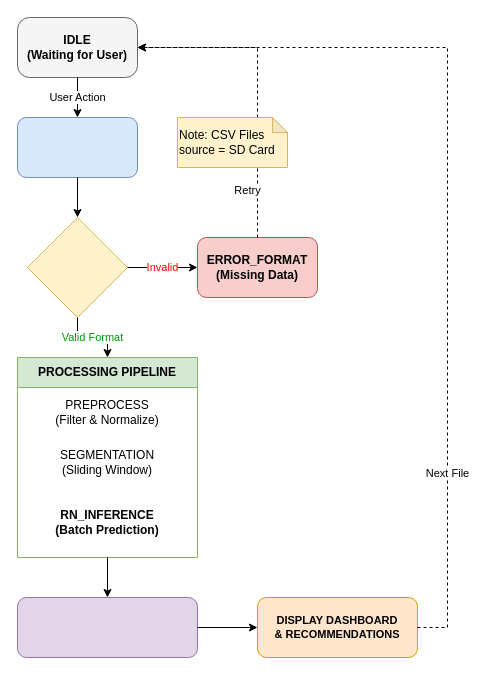
The diagram is 486 pixels wide and 675 high, and some of its shapes have lost their labels. Here are the shapes that lost their labels. From the top down, the centre of each, then its label:
At point (77, 147): "UPLOAD CSV (Select File)".
At point (77, 267): "Check Columns?".
At point (107, 627): "AGGREGATE RESULTS (Calc Statistics)".
